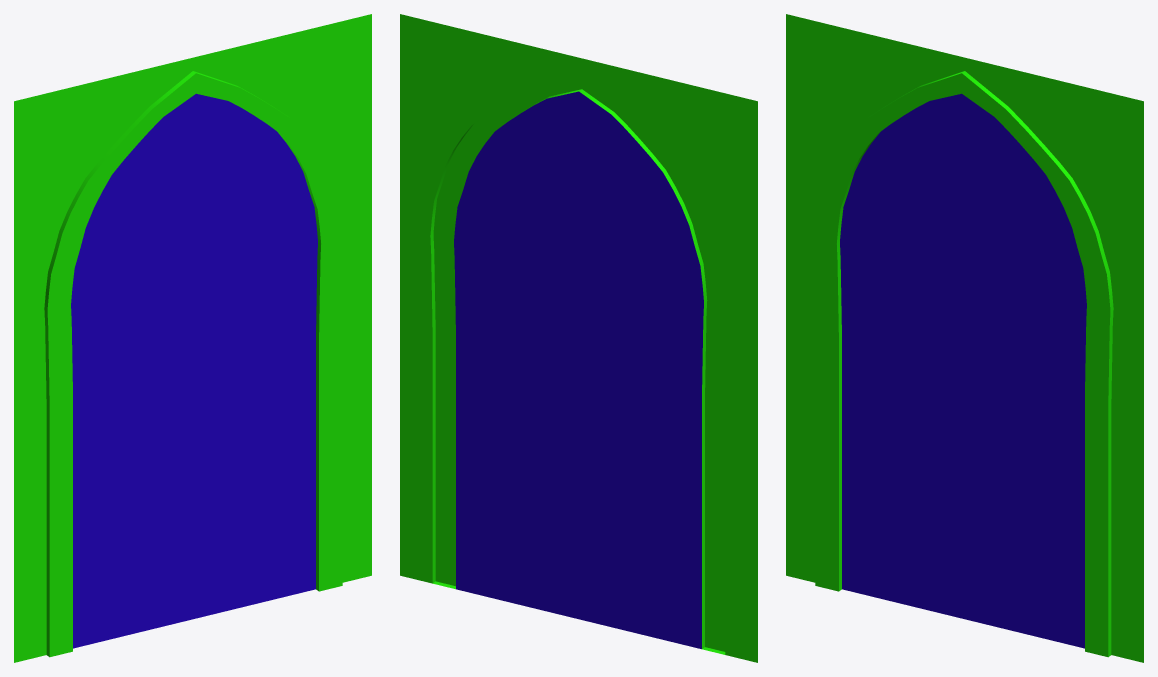
Rendered from window_2.fbx.
The picture shows the model from 3 angles, left to right: view 1: azimuth 30°, elevation 25°; view 2: azimuth 150°, elevation 25°; view 3: azimuth 330°, elevation 25°; orthographic projection.
Parts seen in each view (by area): view 1: Window_2; view 2: Window_2; view 3: Window_2.
Part boxes in pixels (x1,y1,x2,y2): Window_2: [14, 14, 371, 662]; Window_2: [400, 14, 757, 662]; Window_2: [786, 14, 1143, 662].
Size of the model in its own units: 400 by 600 by 6.
